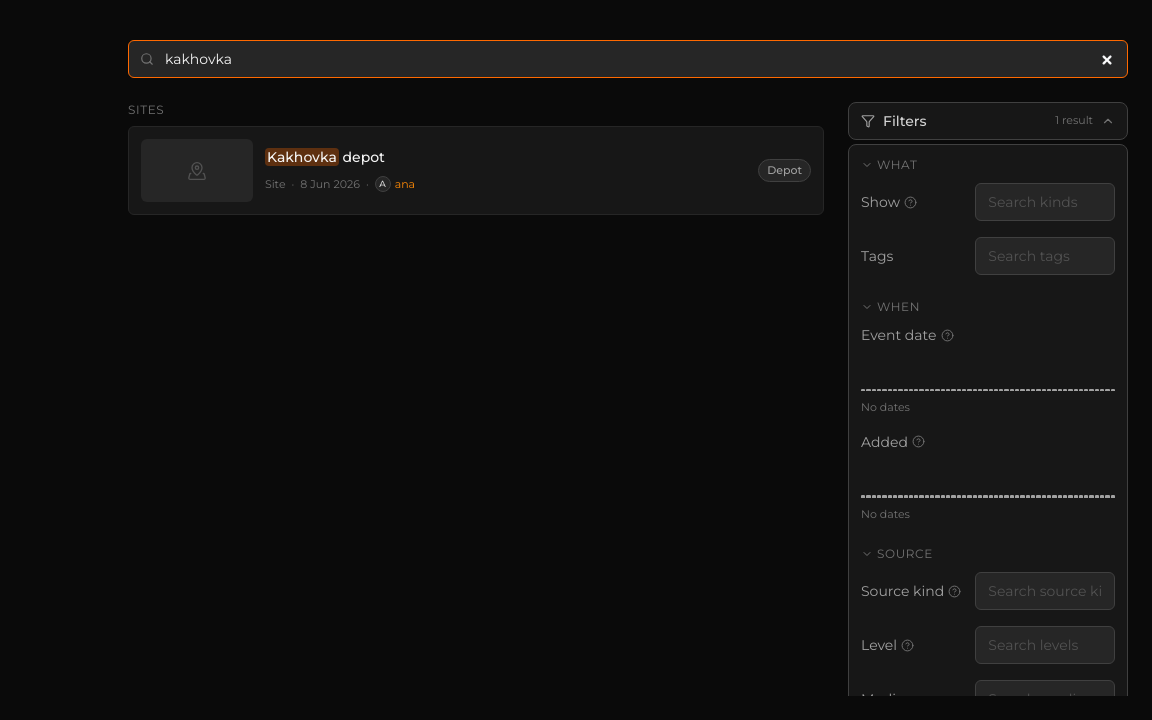
Test case: the Show field › lists only what the picked chips name, and drops the event filters once no event is listed
Expected: the heading "When" is shown, [861, 299, 920, 315]
Focus the dropdown named "Show" at x=1045, y=202, box [975, 183, 1115, 221]
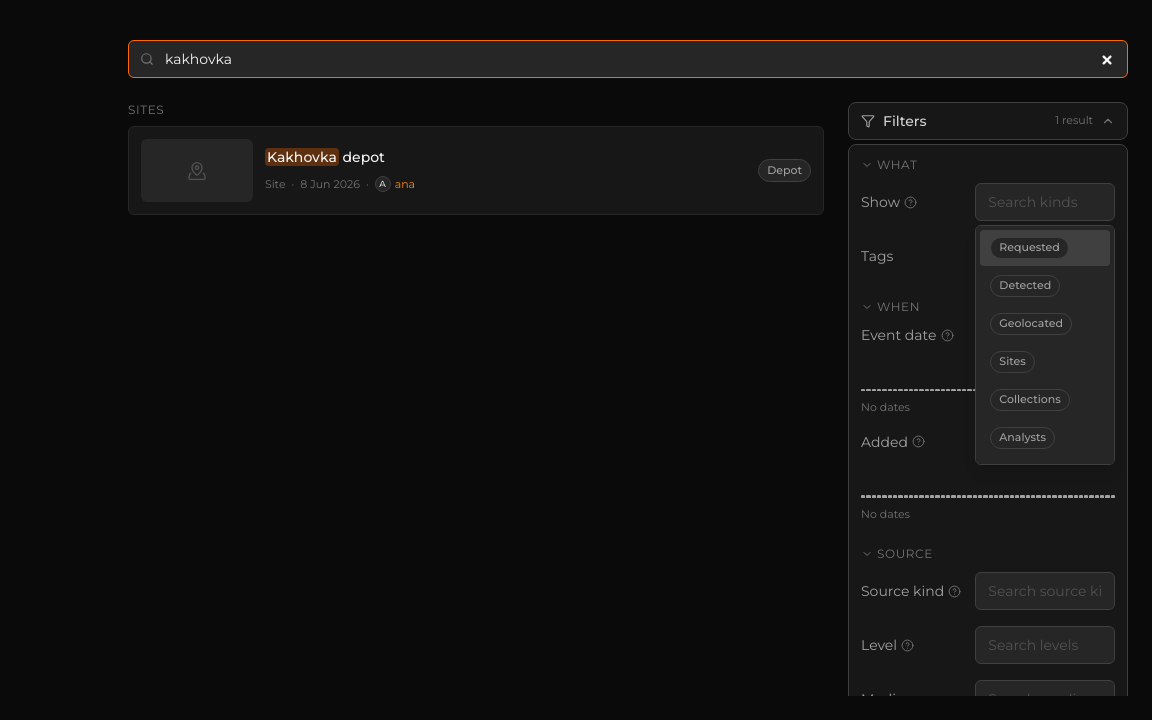
Click the option "Sites" at x=1013, y=362, box [990, 351, 1035, 373]
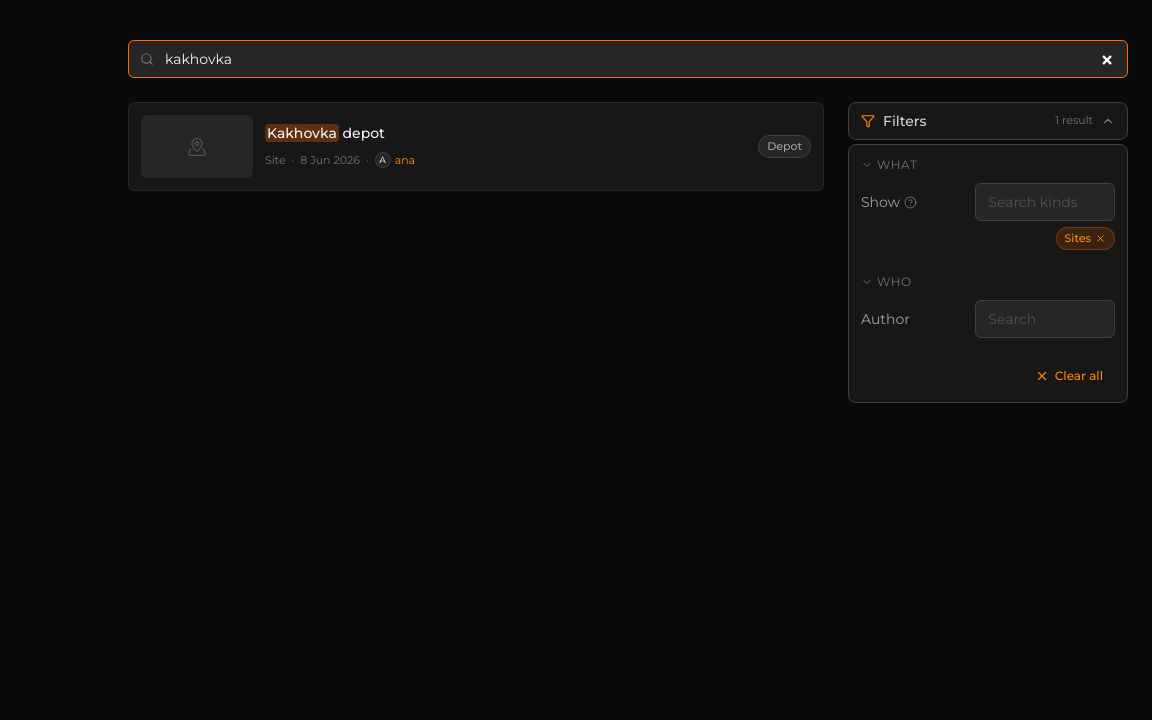
Expected: the button with aria-label "Remove Sites" is shown, [1056, 227, 1115, 250]
Expected: the button "When" is gone
Expected: the dropdown named "Author" is shown, [975, 300, 1115, 338]
Focus the dropdown named "Show" at x=1045, y=202, box [975, 183, 1115, 221]
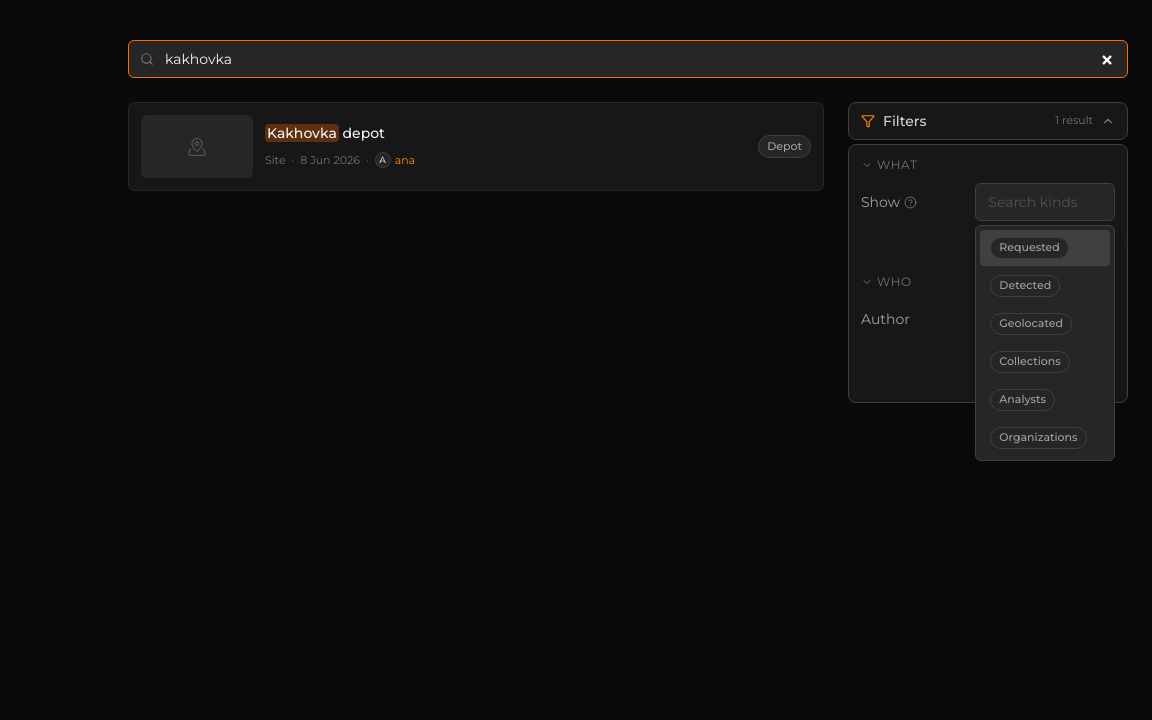
Click the option "Geolocated" at x=1031, y=324, box [990, 313, 1072, 335]
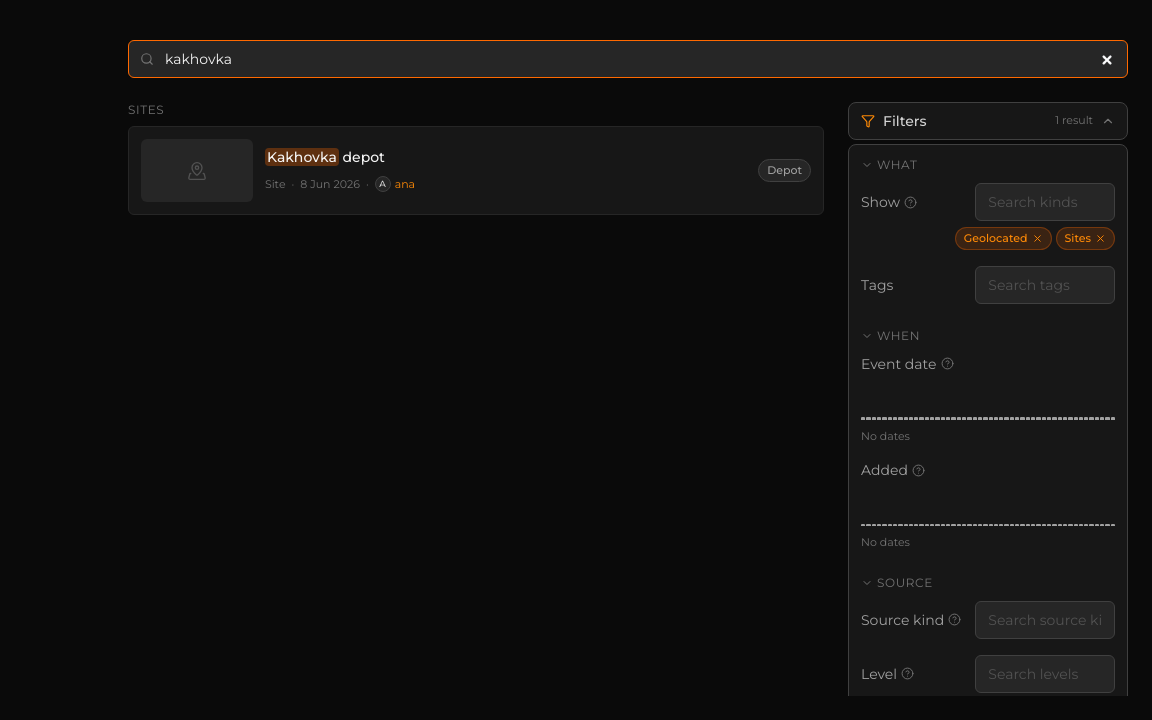
Expected: the heading "When" is shown, [861, 328, 920, 344]
